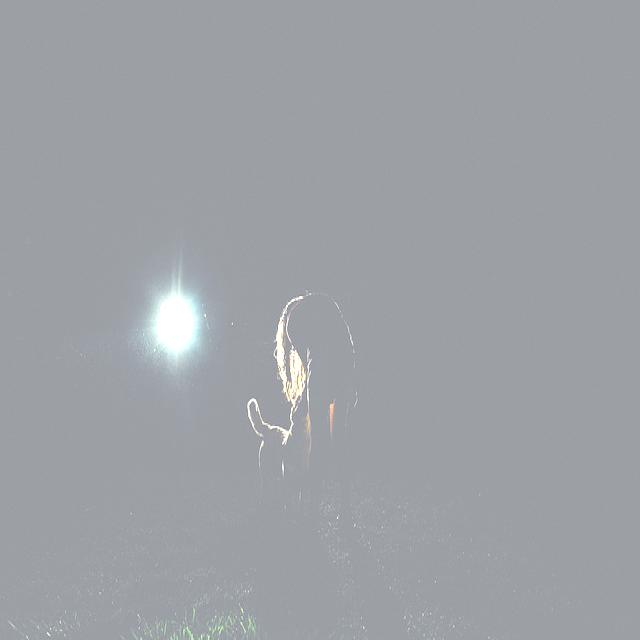Dog: (239, 385, 314, 523)
